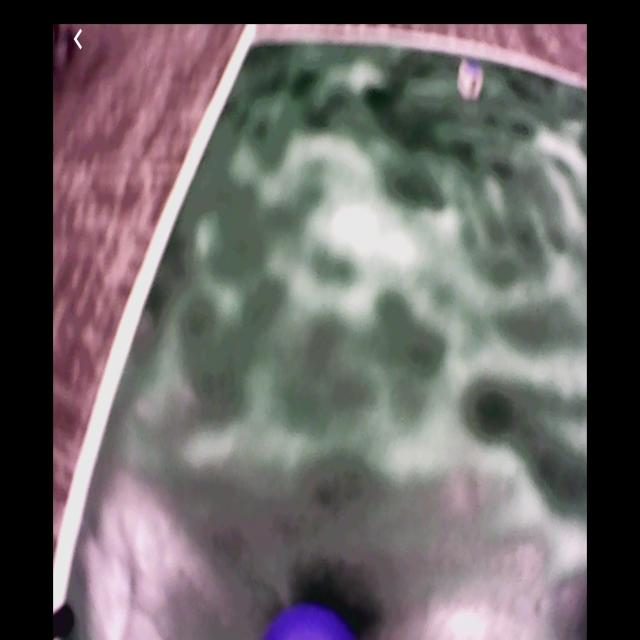ball: (265, 606, 355, 640)
